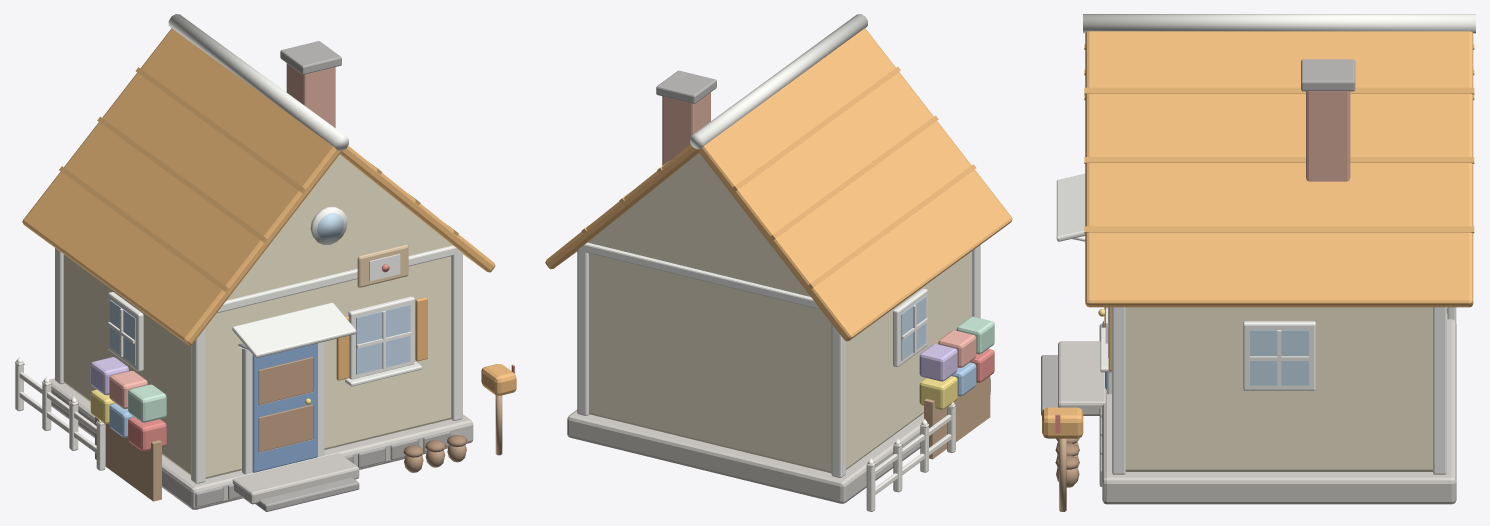
File: casa_pipa.glb
The picture shows the model from 3 angles, left to right: view 1: azimuth 30°, elevation 25°; view 2: azimuth 150°, elevation 25°; view 3: azimuth 270°, elevation 25°; orthographic projection. The views are drawn at different scales.
Visible parts, largest first — view 1: casa_pipa; view 2: casa_pipa; view 3: casa_pipa.
Boxes of the visible parts, x1,y1,x2,y2 form: casa_pipa: (14,14,516,511); casa_pipa: (545,14,1012,511); casa_pipa: (1041,14,1475,511).
Bounding box in the file's own units: 4.58 × 4.6 × 4.42.
